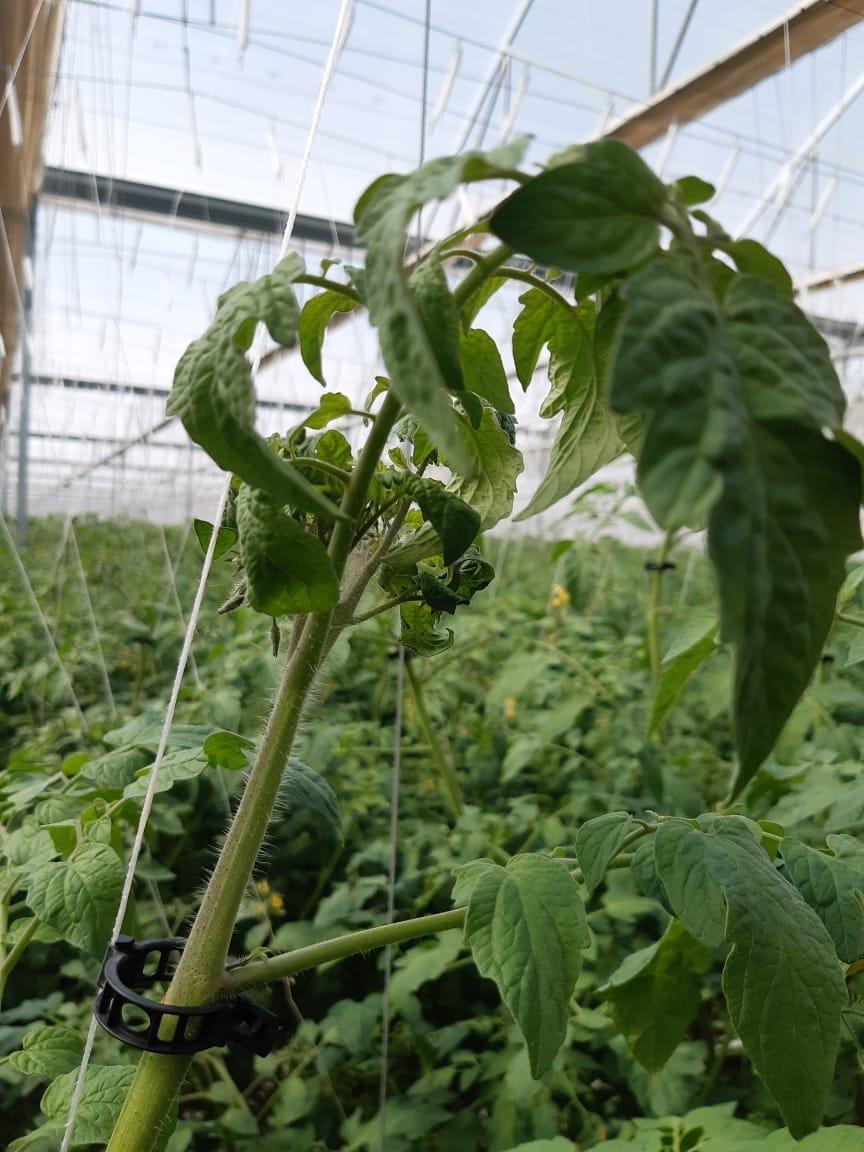Hoja: (610, 249, 861, 788), (654, 815, 848, 1136), (451, 855, 589, 1080)
Pedunculo: (164, 612, 336, 1006), (225, 907, 466, 992), (327, 393, 400, 570), (105, 1055, 186, 1151)
